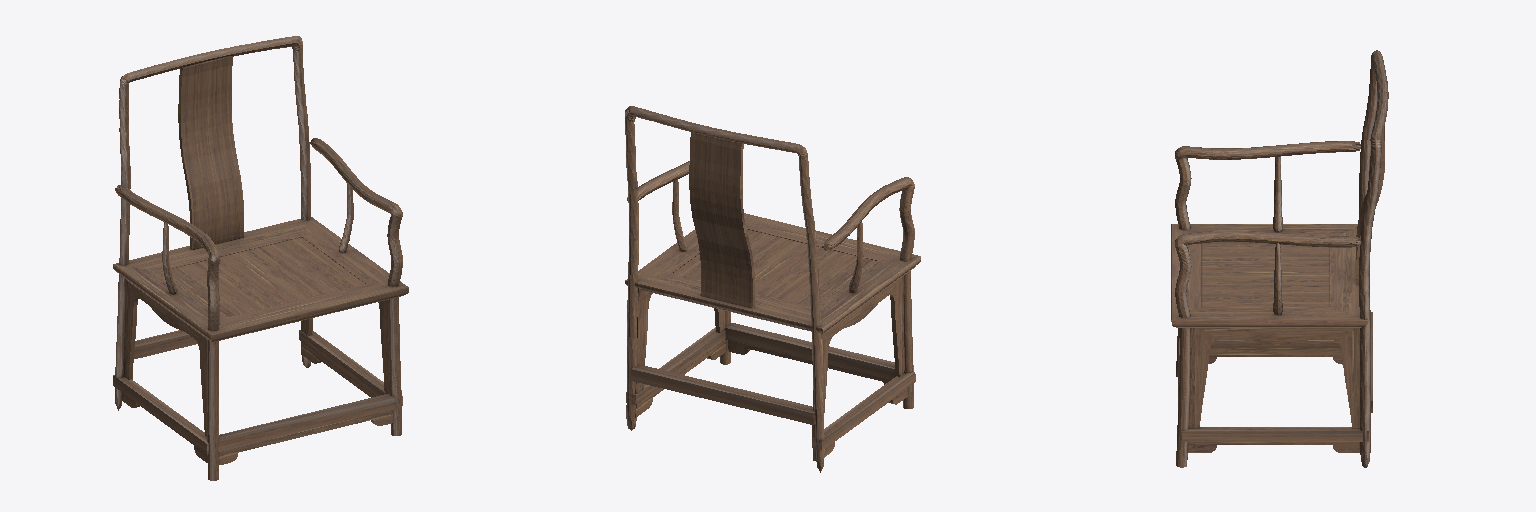
3 views of the same model, side by side, from view 1: azimuth 30°, elevation 25°; view 2: azimuth 150°, elevation 25°; view 3: azimuth 270°, elevation 25° (orthographic).
Parts seen in each view (by area): view 1: solid_001, solid_002; view 2: solid_001, solid_002; view 3: solid_002, solid_001.
Part boxes in pixels (left/top/right/bottom): solid_001: left=113, top=36, right=408, bottom=464; solid_002: left=113, top=138, right=402, bottom=480; solid_001: left=625, top=106, right=920, bottom=472; solid_002: left=626, top=161, right=915, bottom=460; solid_002: left=1175, top=141, right=1372, bottom=467; solid_001: left=1171, top=50, right=1388, bottom=467.
Size of the model in its own units: 0.9735 by 1.51 by 0.8923.
Materials: 1 (1 with a texture image).